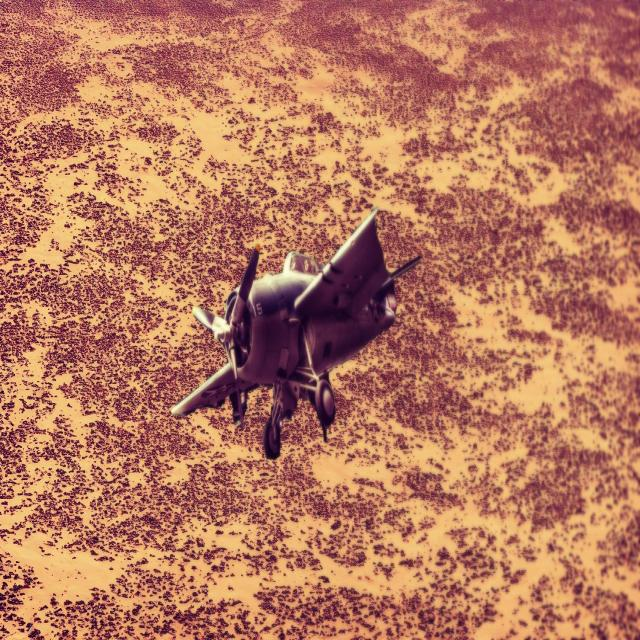airplane: (170, 204, 422, 460)
